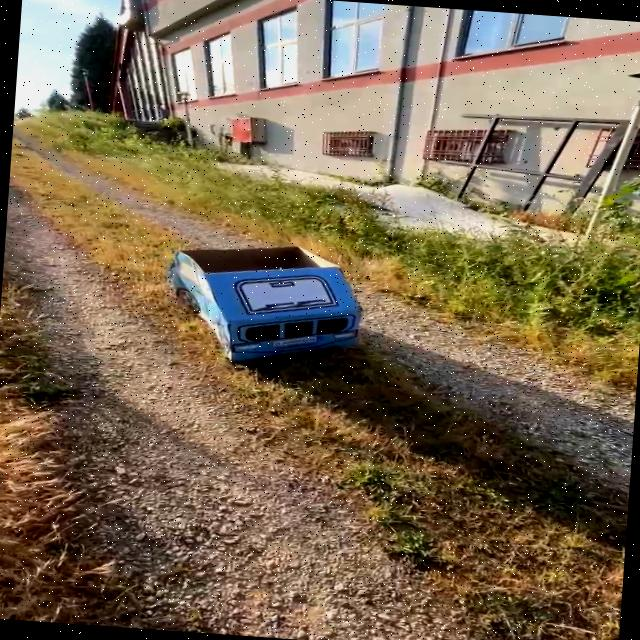blue_car: (111, 218, 417, 393)
